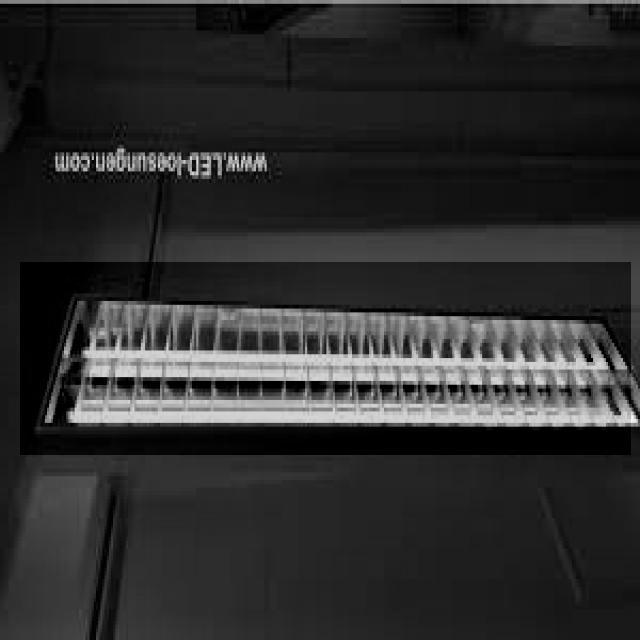light: (50, 297, 639, 430)
